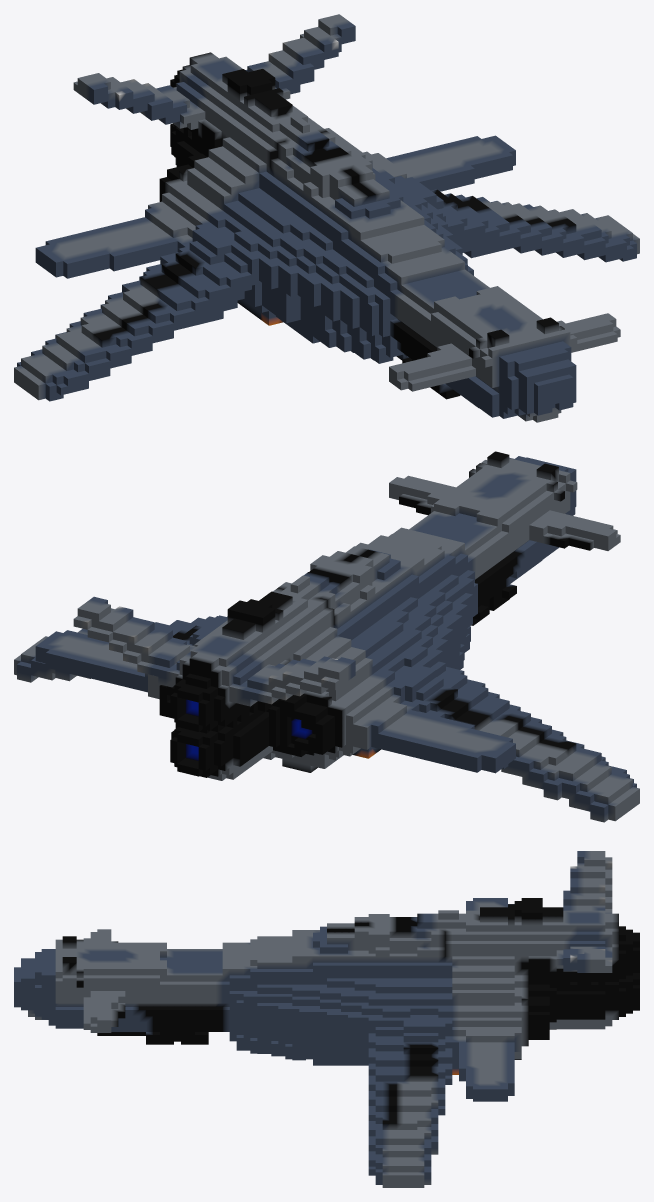
Rendered from spaceship4.obj.
3 views of the same model, one above another, from view 1: azimuth 30°, elevation 25°; view 2: azimuth 150°, elevation 25°; view 3: azimuth 270°, elevation 25° (orthographic). The views are drawn at different scales.
Size of the model in its own units: 8.5 by 2.5 by 9.
